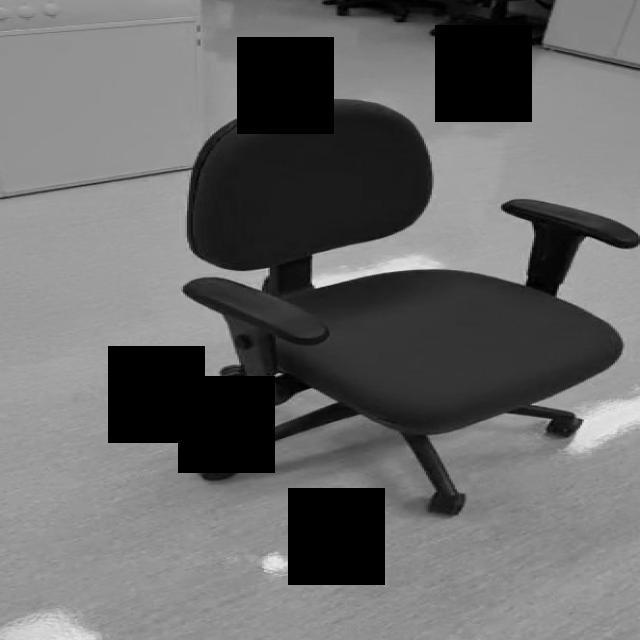chair: (184, 98, 640, 516)
